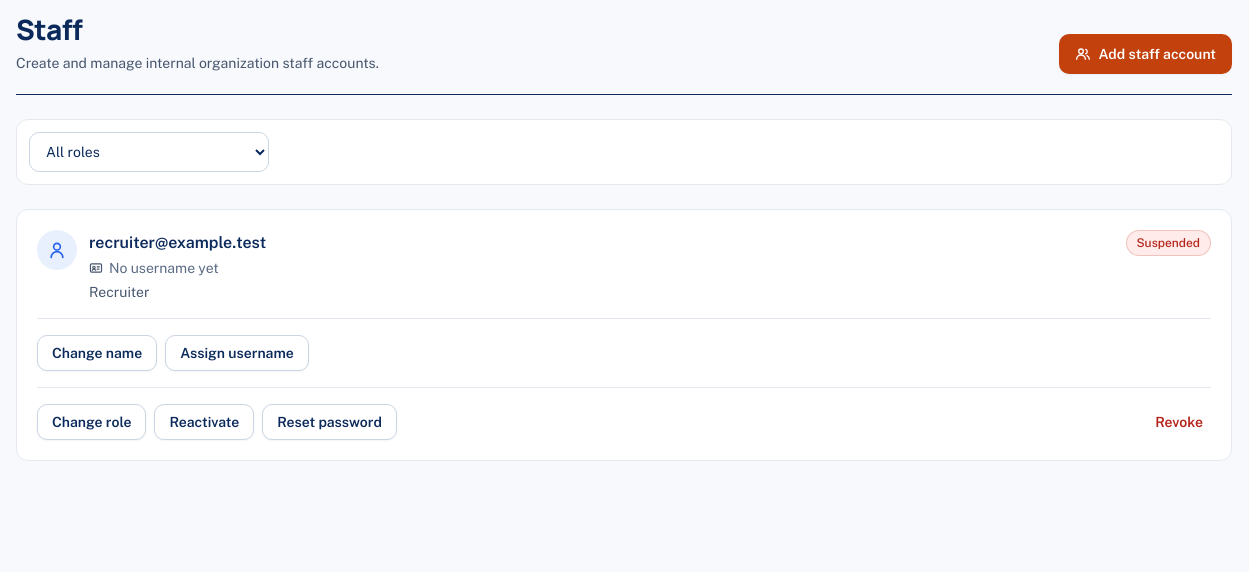
StaffPage (organization) › a successful reactivation is confirmed by name
Click the button "Reactivate": [204, 422] box [154,404,254,440]
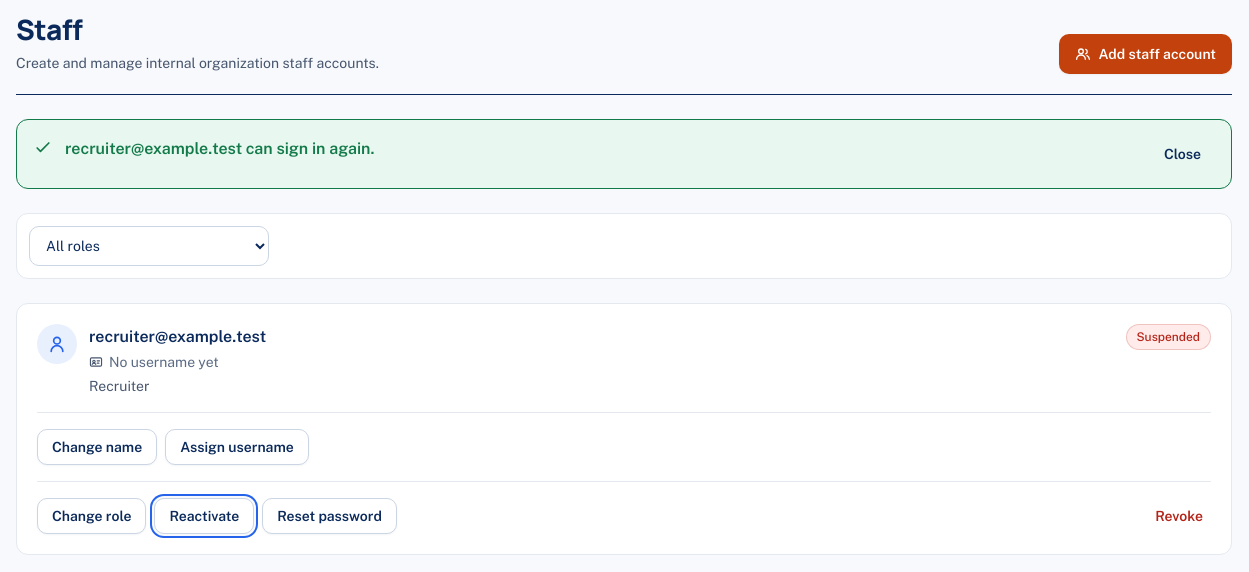
Now the text "recruiter@example.test can sign in again." is shown, box [65,139,374,158]
